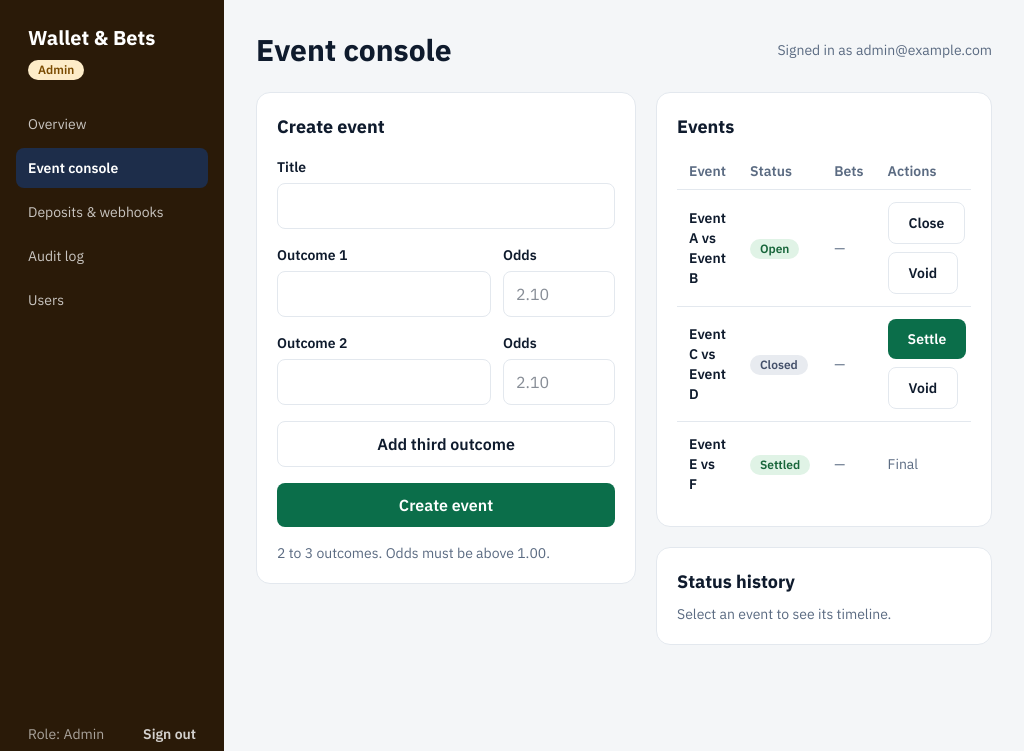
Test case: Event console: create event › creates an event with decimal odds and shows it in the list
Step 1. Type "Event K vs Event L" into the field labelled "Title" → (446, 206), box [277, 183, 615, 229]
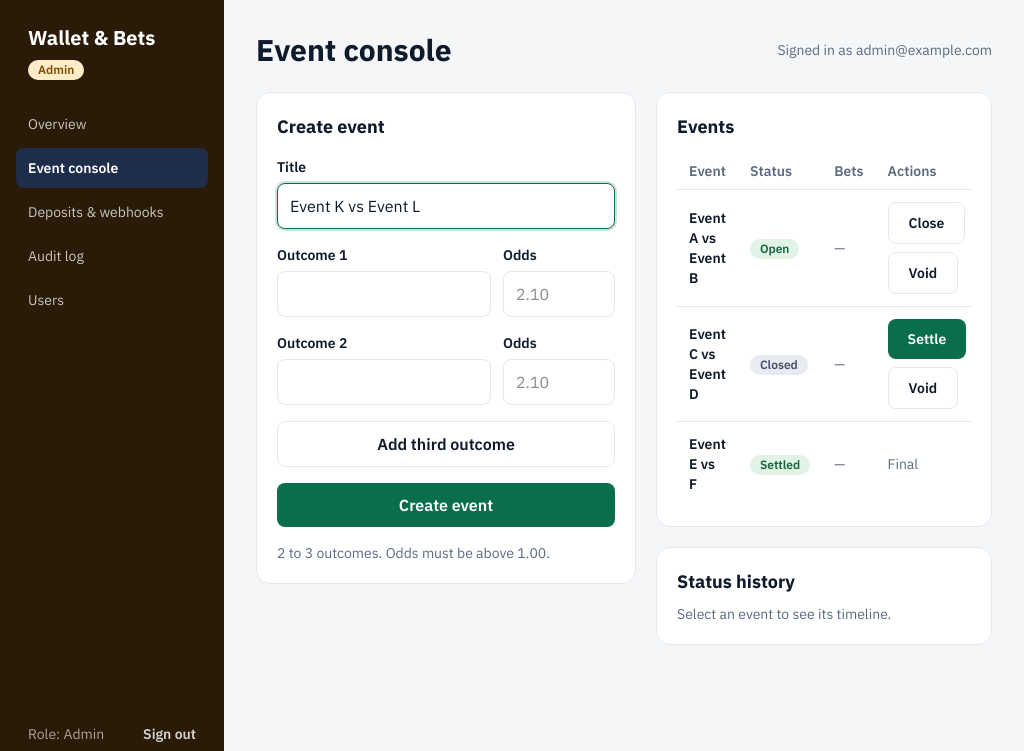
Step 2. Type "Home" into the field named "Outcome 1 name" → (384, 294), box [277, 271, 491, 317]
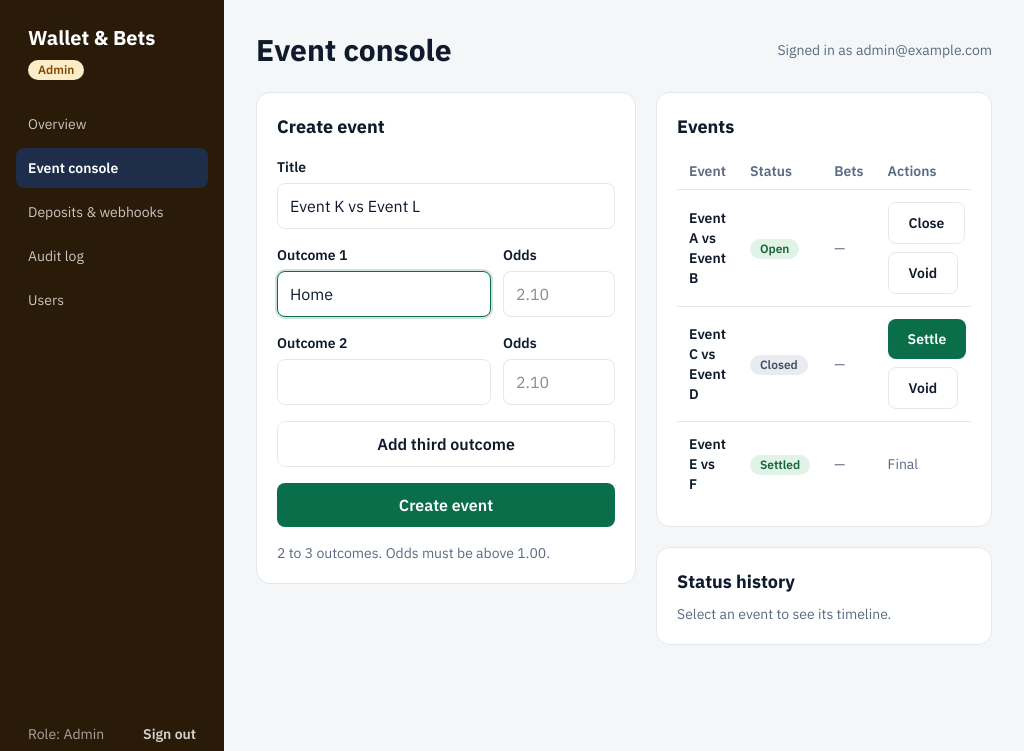
Step 3. Type "2.20" into the field named "Odds 1" → (559, 294), box [503, 271, 615, 317]
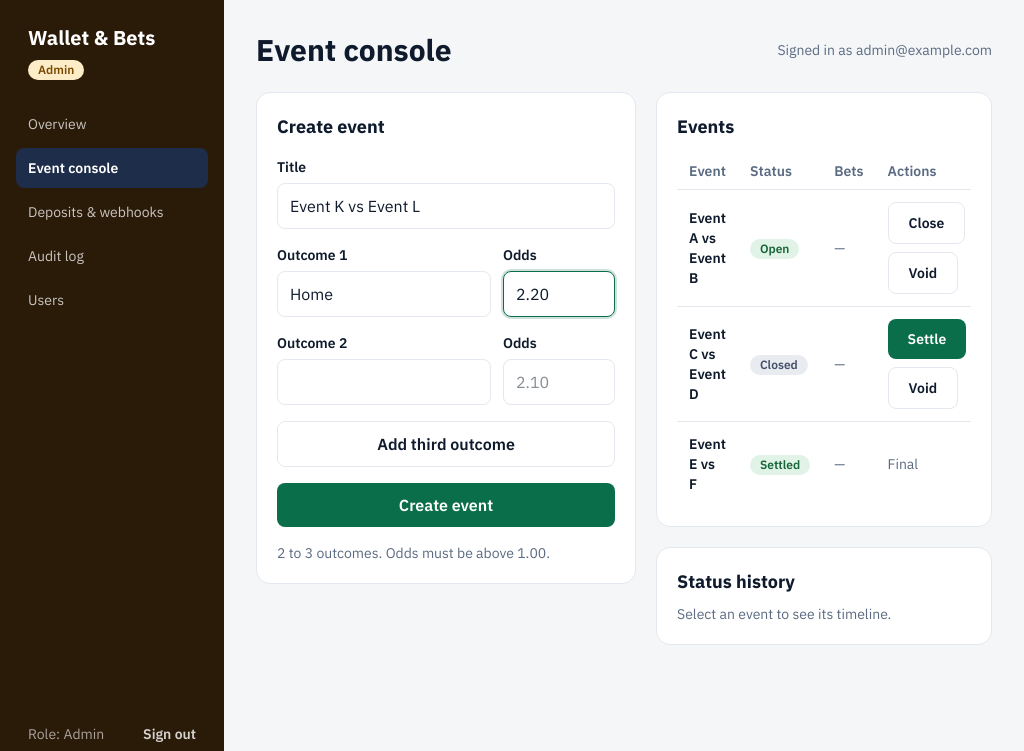
Step 4. Type "Away" into the field named "Outcome 2 name" → (384, 382), box [277, 359, 491, 405]
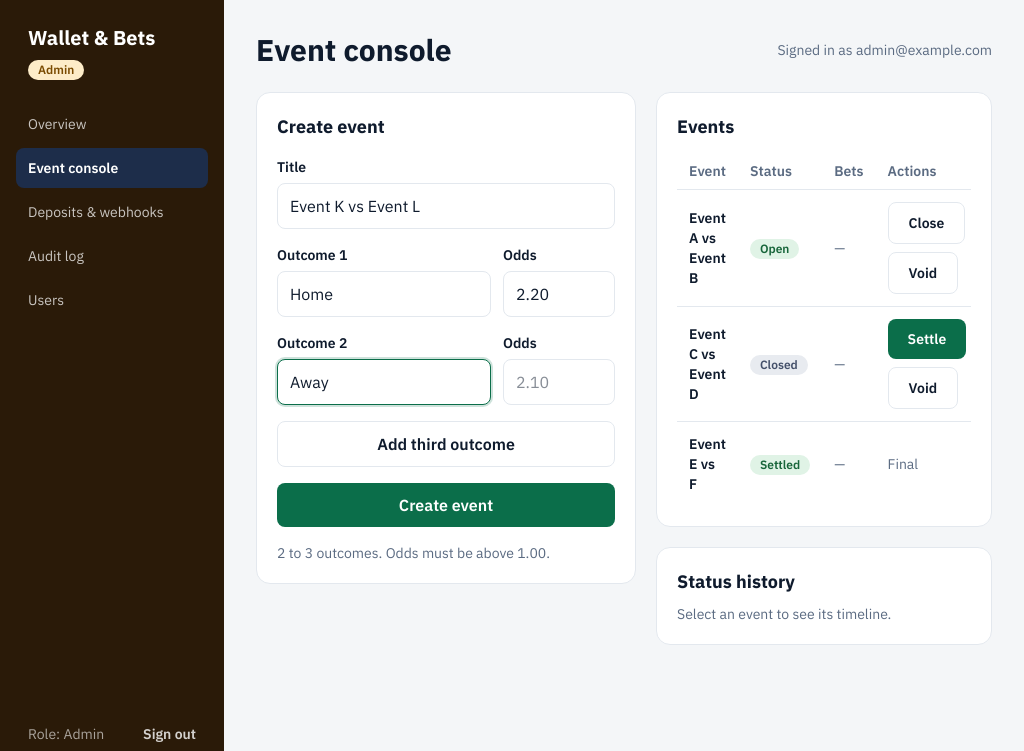
Step 5. Type "1.70" into the field named "Odds 2" → (559, 382), box [503, 359, 615, 405]
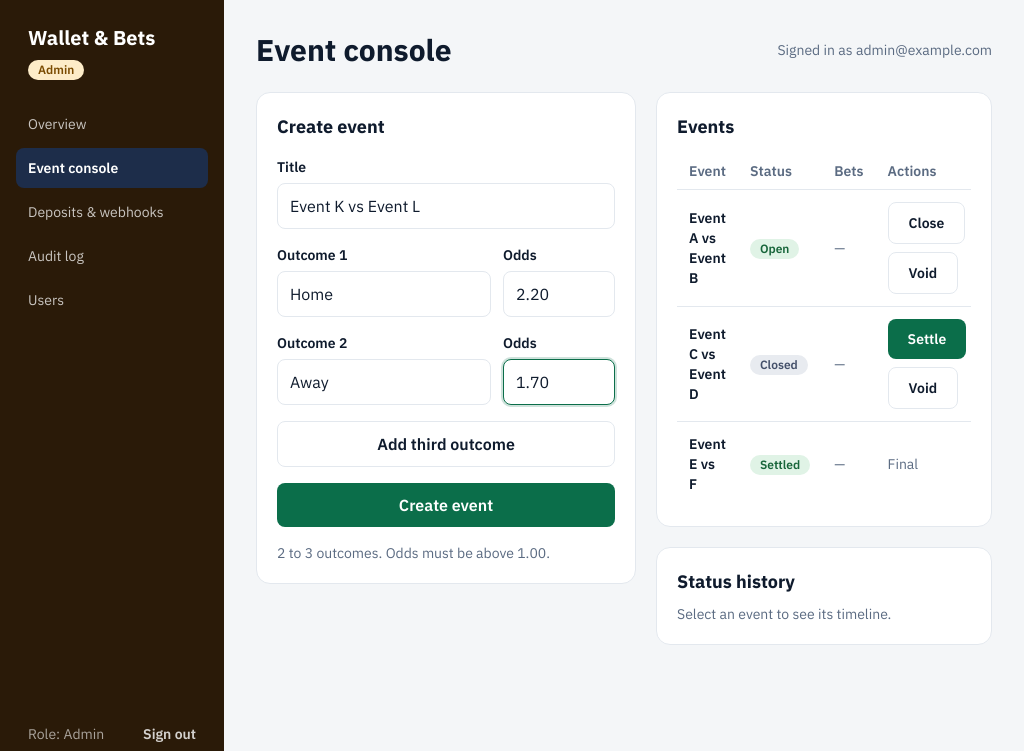
Step 6. Click the button "Create event" → (446, 505), box [277, 483, 615, 527]
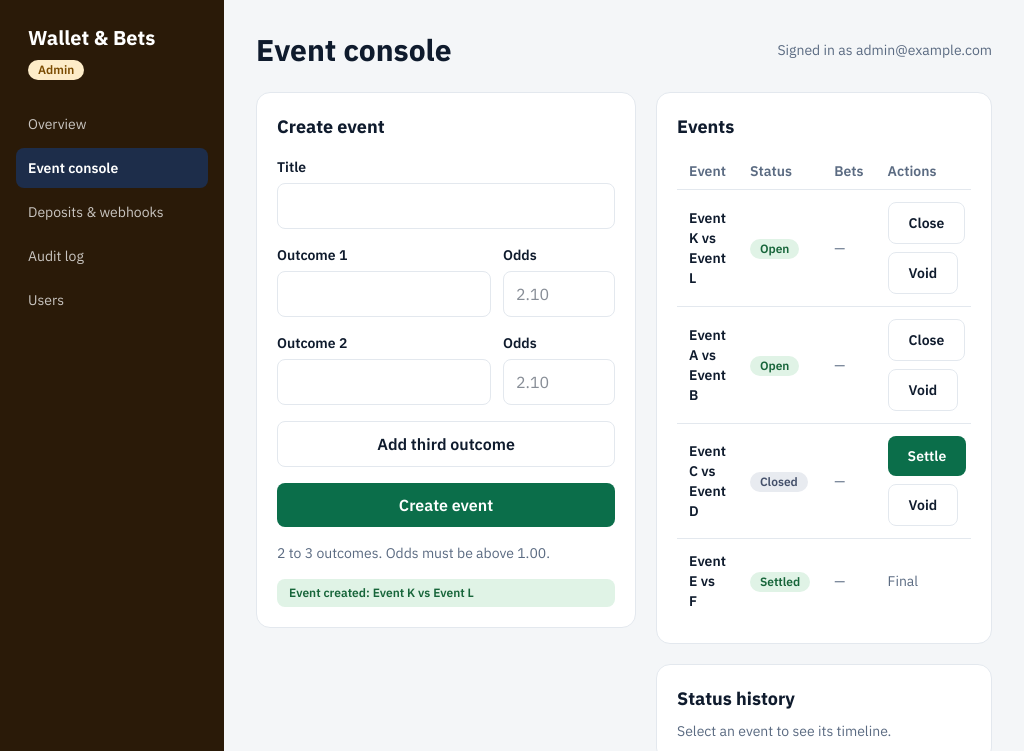
Check: the text "Event created: Event K vs Event L" is shown, box [277, 579, 615, 607]
Check: the button "Event K vs Event L" is shown, box [689, 208, 726, 288]
Check: the field labelled "Title" is empty, box [277, 183, 615, 229]
